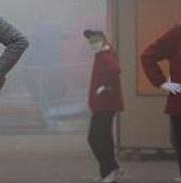person: (77, 25, 130, 183), (140, 22, 181, 178), (1, 14, 31, 92)
